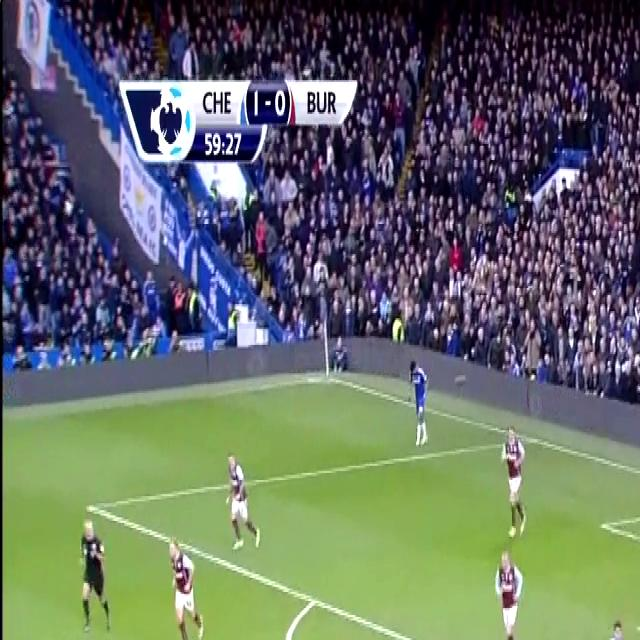referee: (75, 505, 114, 640)
soccer-player: (161, 526, 205, 640), (225, 437, 266, 556), (484, 537, 525, 640), (497, 416, 529, 541), (406, 348, 434, 452), (598, 608, 640, 640)
